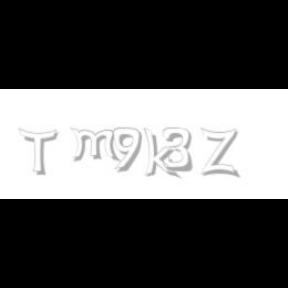3: (162, 128, 194, 172)
9: (112, 128, 142, 172)
T: (18, 128, 58, 176)
Z: (200, 128, 237, 178)
k: (143, 128, 181, 180)
m: (69, 128, 121, 162)
